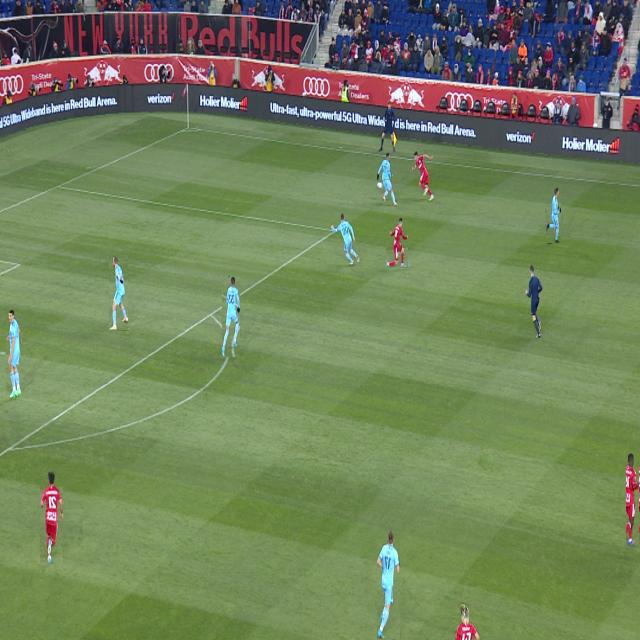football: (377, 182, 383, 189)
player: (377, 531, 400, 639), (41, 472, 63, 563), (331, 213, 360, 265), (222, 277, 240, 357), (110, 255, 128, 330), (7, 310, 21, 398), (377, 153, 398, 206), (627, 454, 639, 546), (412, 152, 434, 201), (387, 218, 408, 267), (455, 604, 480, 640), (546, 188, 561, 243)
referee: (525, 265, 542, 338)
